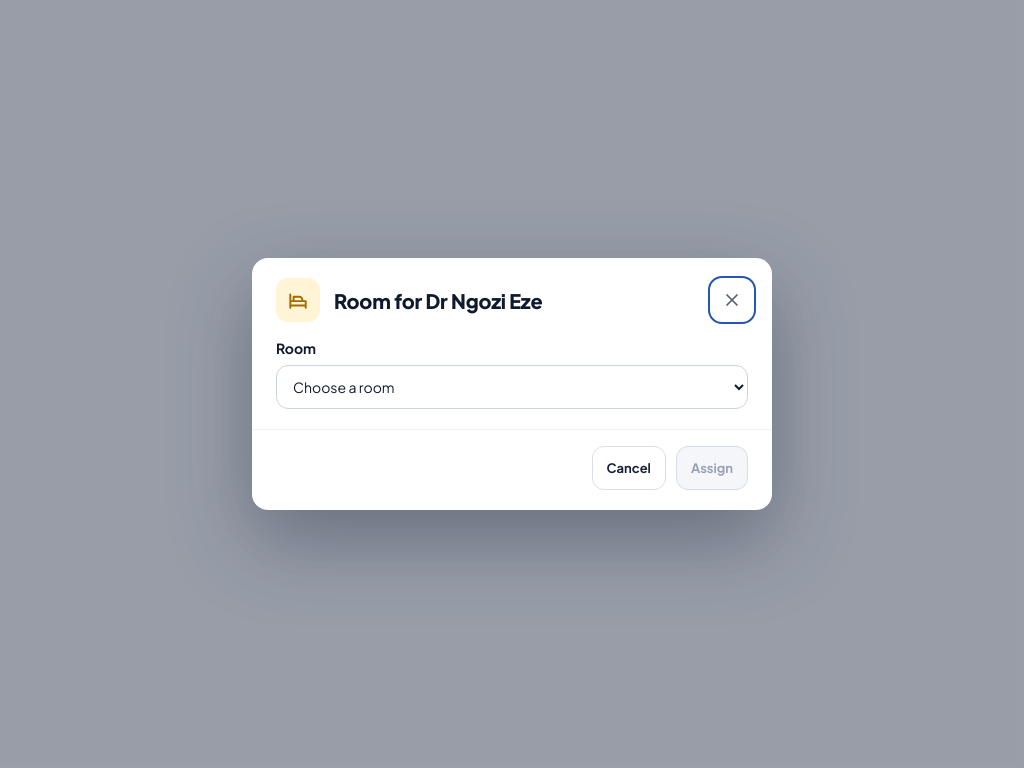
Test: MoveDialog › moves a guest from their current room
The image size is (1024, 768).
Select "412 · Executive Suite, East F4" in the dropdown labelled "Room" at (512, 387), box [276, 365, 748, 409]
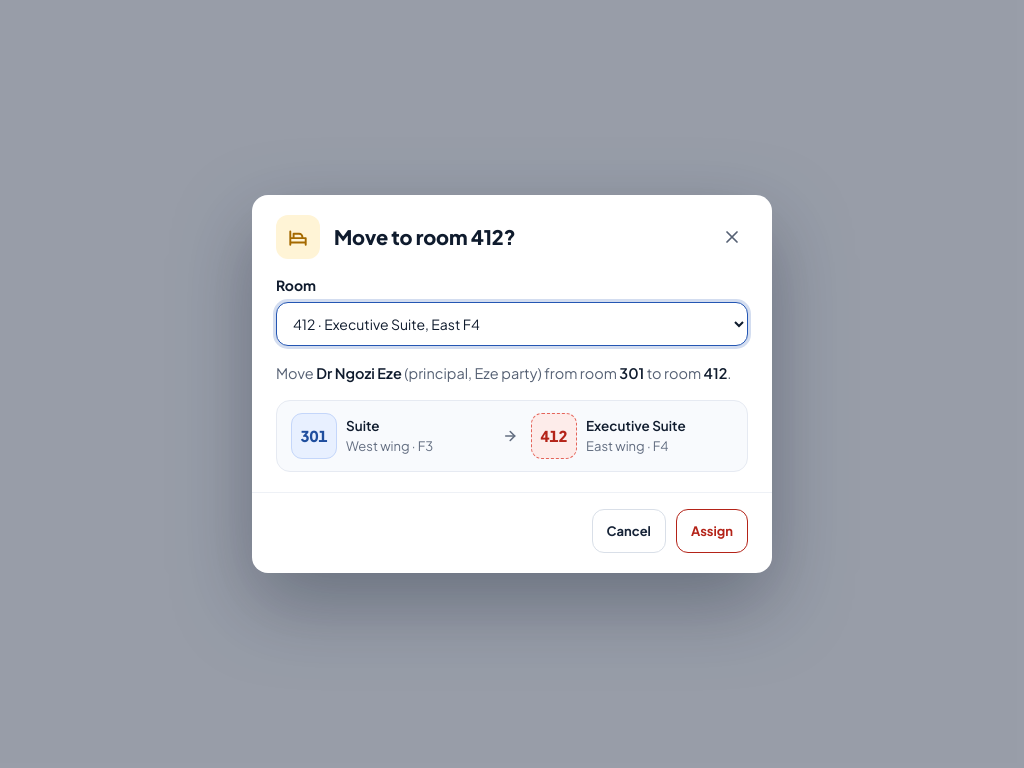
Now the heading "Move to room 412?" is shown, box [334, 224, 516, 249]
Now the element with class "move-story" reads "Move Dr Ngozi Eze (principal, Eze party) from room 301 to room 412.", box [276, 362, 748, 384]
Now the text "West wing · F3" is shown, box [346, 438, 433, 454]
